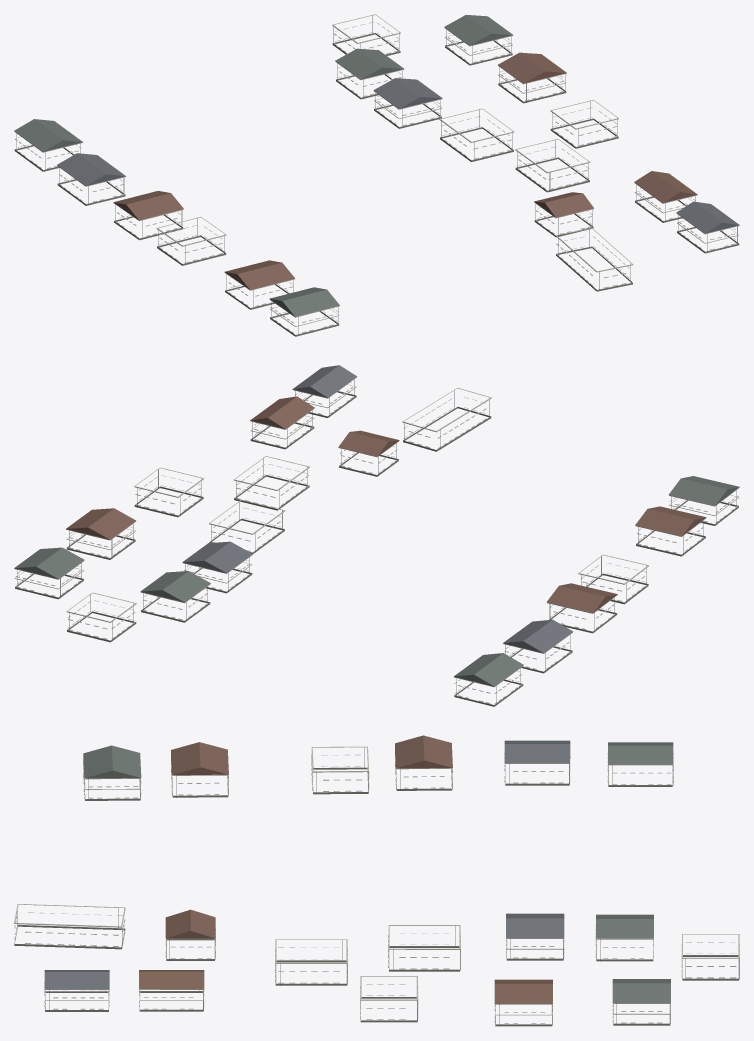
File: district_-1_0.glb
3 views of the same model, one above another, from view 1: azimuth 30°, elevation 25°; view 2: azimuth 150°, elevation 25°; view 3: azimuth 270°, elevation 25° (orthographic). The views are drawn at different scales.
Parts seen in each view (by area): view 1: RoofMetal, MasonryTrim, MetalDetails; view 2: RoofMetal, MasonryTrim, MetalDetails; view 3: RoofMetal, MasonryTrim, MetalDetails.
Boxes of the visible parts, x1,y1,x2,y2 form: RoofMetal: (14,15,739,316); MasonryTrim: (14,14,739,336); MetalDetails: (16,15,737,335); RoofMetal: (14,365,739,686); MasonryTrim: (14,377,739,706); MetalDetails: (17,379,736,705); RoofMetal: (44,735,673,1003); MasonryTrim: (14,746,739,1026); MetalDetails: (17,747,739,1026).
Size of the model in its own units: 187 by 10.1 by 217.
